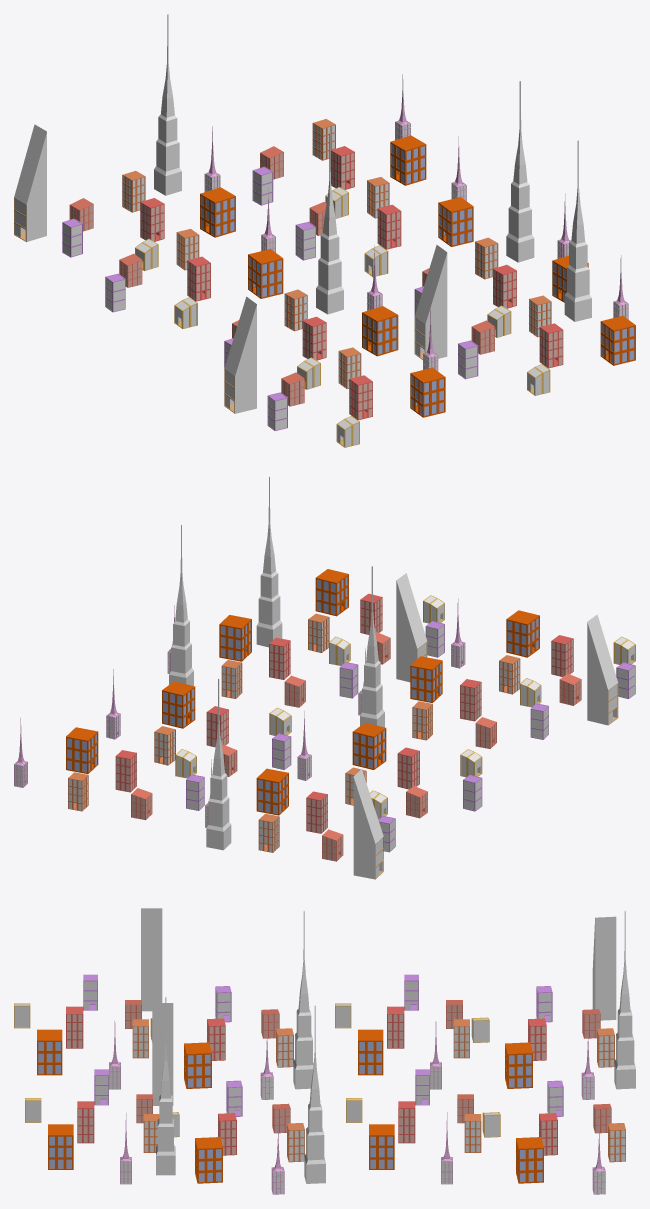
The model's file is amr game Bomb.glb.
3 renders of one model, top to bottom at view 1: azimuth 30°, elevation 25°; view 2: azimuth 150°, elevation 25°; view 3: azimuth 270°, elevation 25°, orthographic. The views are drawn at different scales.
Visible parts, largest first — view 1: Cube.053, Cube.009, Cube.026, Cube.034, Cube.016, Cube.052, Cube.025, Cube.063, Cube.005, Cube.018, Cube.054, Cube (+32 smaller); view 2: Cube.009, Cube.053, Cube.026, Cube.052, Cube.025, Cube.016, Cube.034, Cube.036, Cube.054, Cube, Cube.018, Cube.027 (+31 smaller); view 3: Cube.053, Cube.009, Cube.052, Cube.034, Cube.026, Cube.016, Cube.025, Cube.027, Cube.063, Cube.005, Cube.045, Cube (+49 smaller).
Boxes of the visible parts, <box> form: Cube.053: <box>14,124,46,241</box>; Cube.009: <box>224,296,256,413</box>; Cube.026: <box>414,245,447,359</box>; Cube.034: <box>506,81,534,262</box>; Cube.016: <box>316,133,343,314</box>; Cube.052: <box>154,14,181,195</box>; Cube.025: <box>564,140,591,321</box>; Cube.063: <box>390,135,426,185</box>; Cube.005: <box>362,306,398,356</box>; Cube.018: <box>600,316,635,365</box>; Cube.054: <box>438,197,473,246</box>; Cube: <box>410,367,445,417</box>; Cube.009: <box>587,614,618,725</box>; Cube.053: <box>353,769,383,879</box>; Cube.026: <box>396,573,427,682</box>; Cube.052: <box>206,678,231,850</box>; Cube.025: <box>256,476,282,647</box>; Cube.016: <box>360,566,384,727</box>; Cube.034: <box>169,524,193,685</box>; Cube.036: <box>352,722,386,769</box>; Cube.054: <box>162,681,195,728</box>; Cube: <box>506,610,539,657</box>; Cube.018: <box>315,569,348,616</box>; Cube.027: <box>219,615,251,661</box>; Cube.053: <box>592,916,616,1020</box>; Cube.009: <box>141,908,162,1011</box>; Cube.052: <box>614,910,635,1089</box>; Cube.034: <box>304,1005,325,1183</box>; Cube.026: <box>152,1003,173,1105</box>; Cube.016: <box>293,910,313,1089</box>; Cube.025: <box>156,997,175,1175</box>; Cube.027: <box>195,1137,222,1183</box>; Cube.063: <box>516,1137,543,1183</box>; Cube.005: <box>184,1042,211,1088</box>; Cube.045: <box>505,1042,532,1088</box>; Cube: <box>37,1029,62,1075</box>.
Size of the model in its own units: 306 by 128 by 411.
